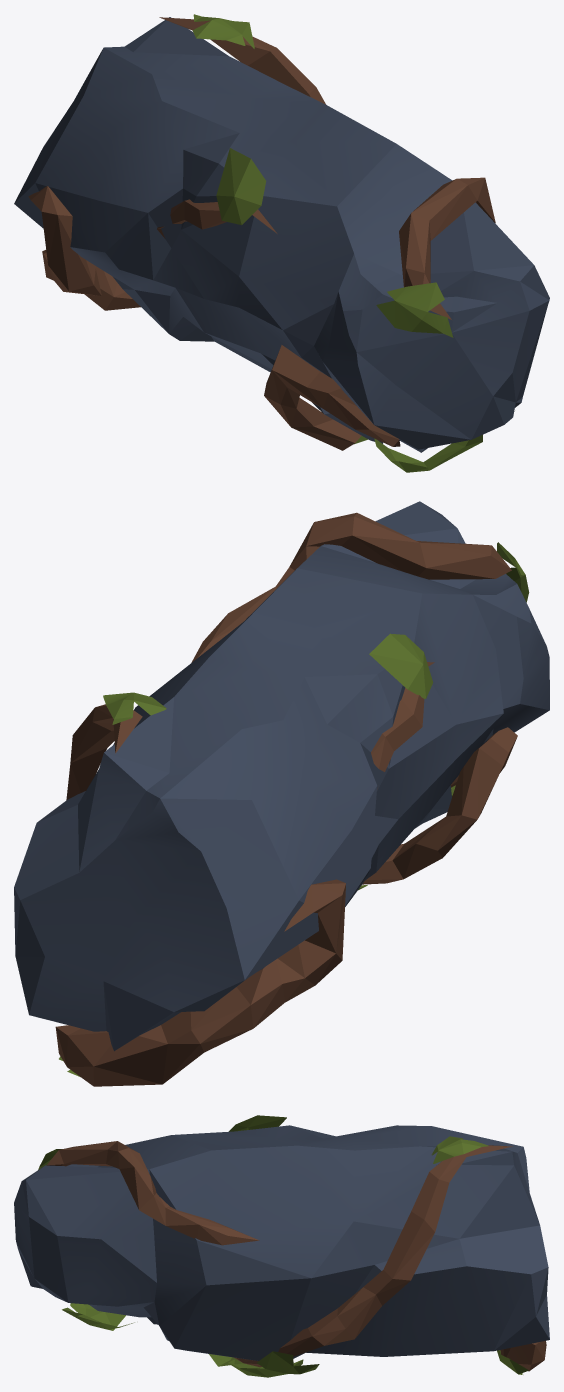
Rendered from Awl.fbx.
3 renders of one model, top to bottom at view 1: azimuth 30°, elevation 25°; view 2: azimuth 150°, elevation 25°; view 3: azimuth 270°, elevation 25°, orthographic. The views are drawn at different scales.
Parts seen in each view (by area): view 1: 39095_1; view 2: 39095_1; view 3: 39095_1.
Boxes of the visible parts, bbox=[...] form: 39095_1: bbox=[14, 14, 549, 472]; 39095_1: bbox=[14, 501, 549, 1086]; 39095_1: bbox=[14, 1115, 549, 1377].
Size of the model in its own units: 0.0354 by 0.0374 by 0.0767.
1 material, 1 textured.
